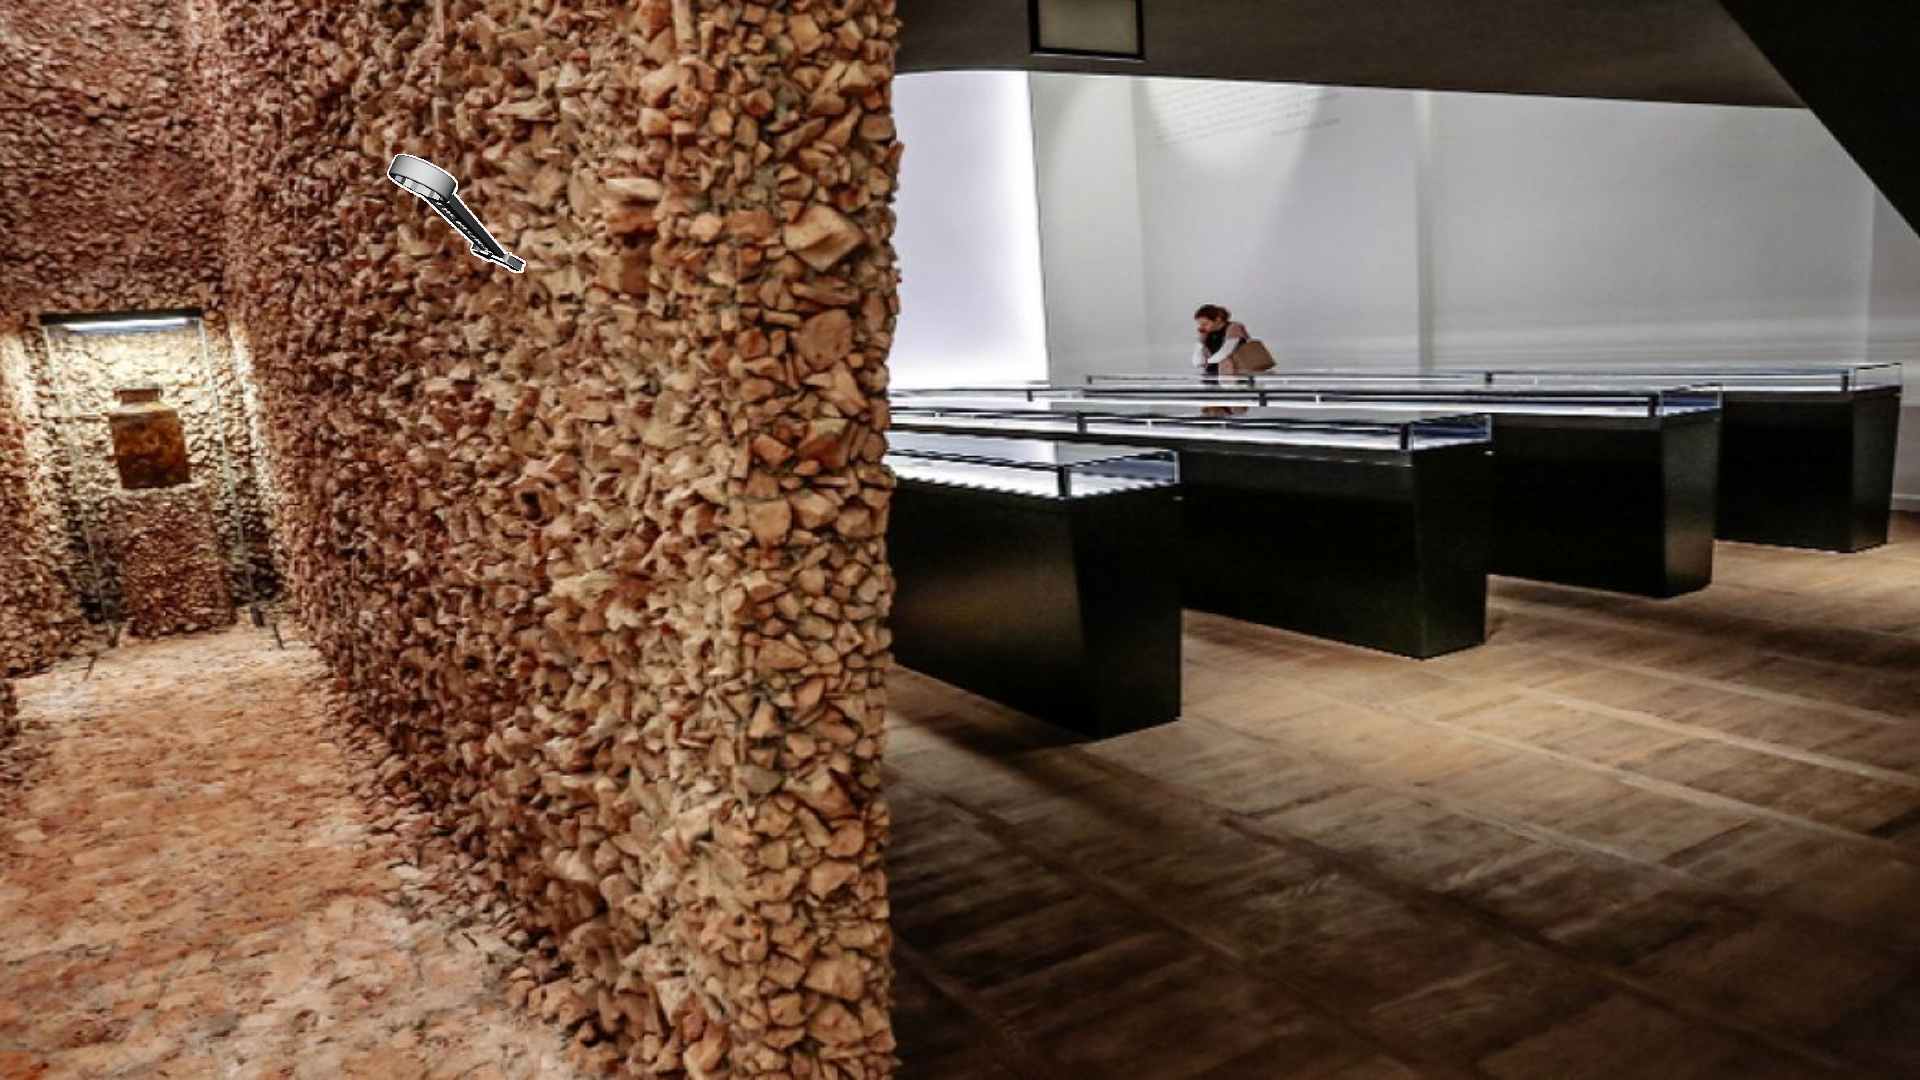Mixed Key: (386, 154, 525, 272)
